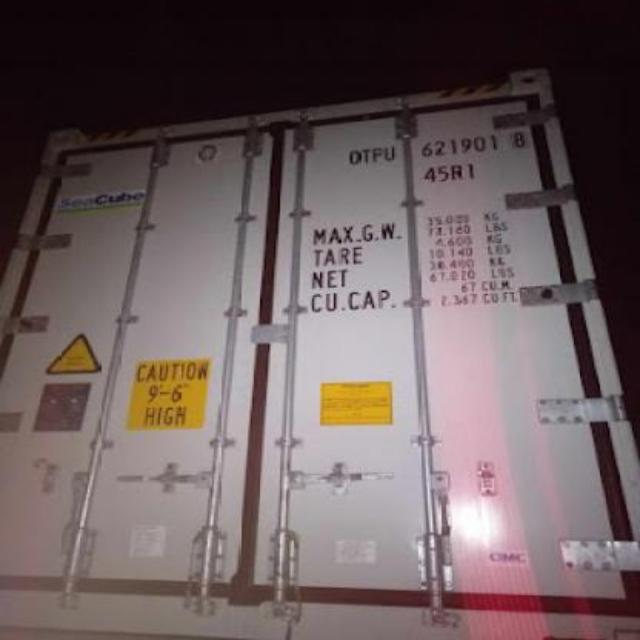0: (472, 135, 488, 153)
1: (448, 136, 462, 156), (488, 133, 502, 151)
2: (434, 138, 448, 160)
6: (420, 141, 432, 159)
8: (514, 132, 528, 152)
9: (460, 138, 472, 154)
O: (346, 152, 362, 166)
P: (372, 147, 384, 165)
T: (362, 147, 374, 165)
U: (382, 146, 398, 164)
